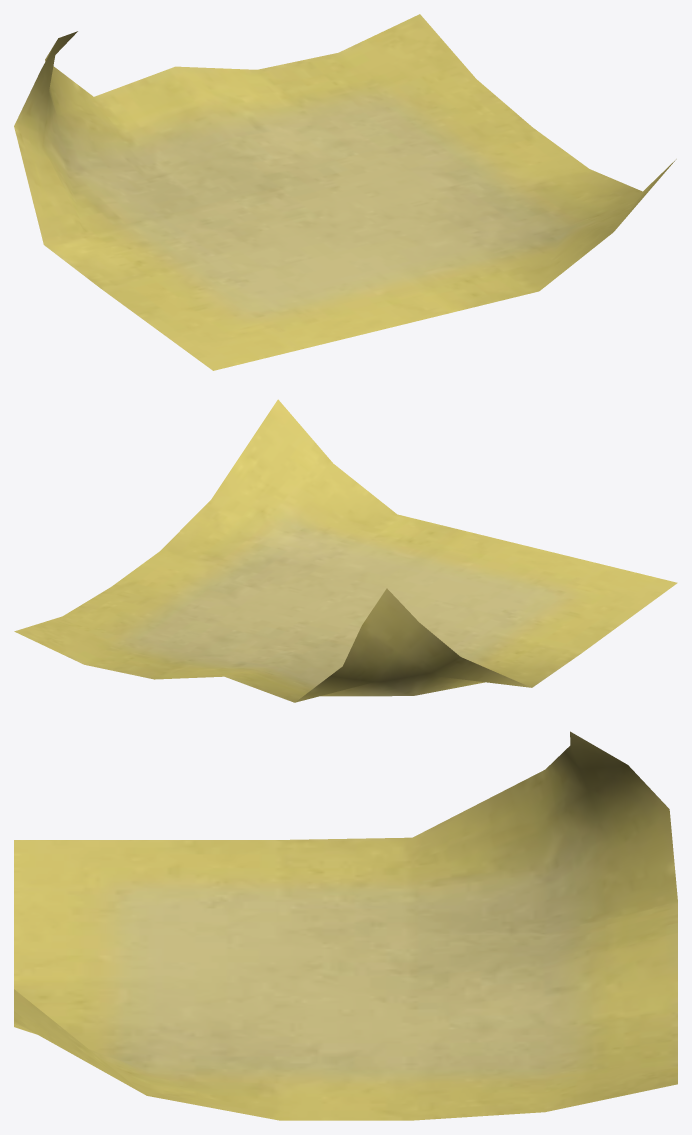
Rendered from post-it-user-v49.glb.
3 views of the same model, one above another, from view 1: azimuth 30°, elevation 25°; view 2: azimuth 150°, elevation 25°; view 3: azimuth 270°, elevation 25° (orthographic). The views are drawn at different scales.
Parts seen in each view (by area): view 1: ThickestPostItPad; view 2: ThickestPostItPad; view 3: ThickestPostItPad.
Boxes of the visible parts, <box> form: ThickestPostItPad: <box>14,14,676,370</box>; ThickestPostItPad: <box>14,399,677,702</box>; ThickestPostItPad: <box>14,731,677,1120</box>.
Bounding box in the file's own units: 0.076 × 0.0211 × 0.076.
1 material, 1 textured.
